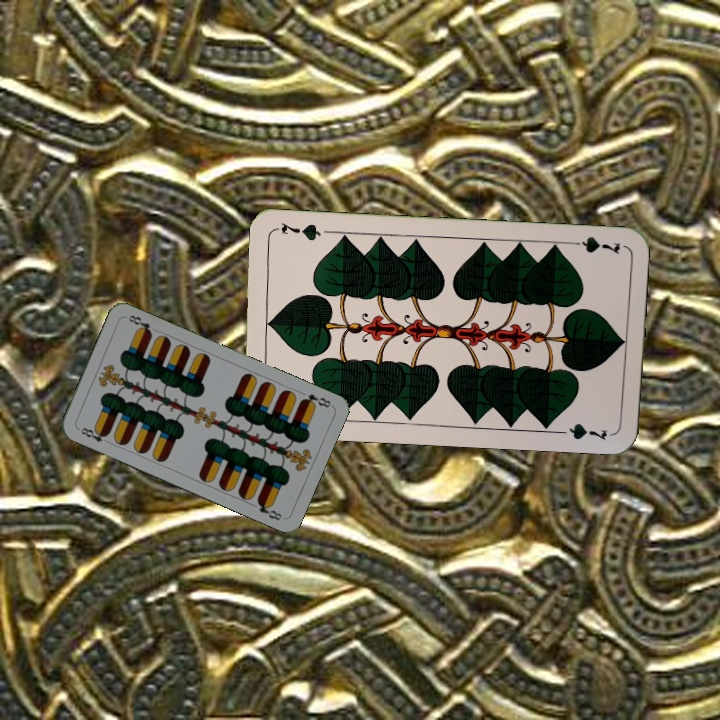E8: (74, 423, 113, 446), (297, 390, 334, 410)
G7: (564, 233, 623, 257)
